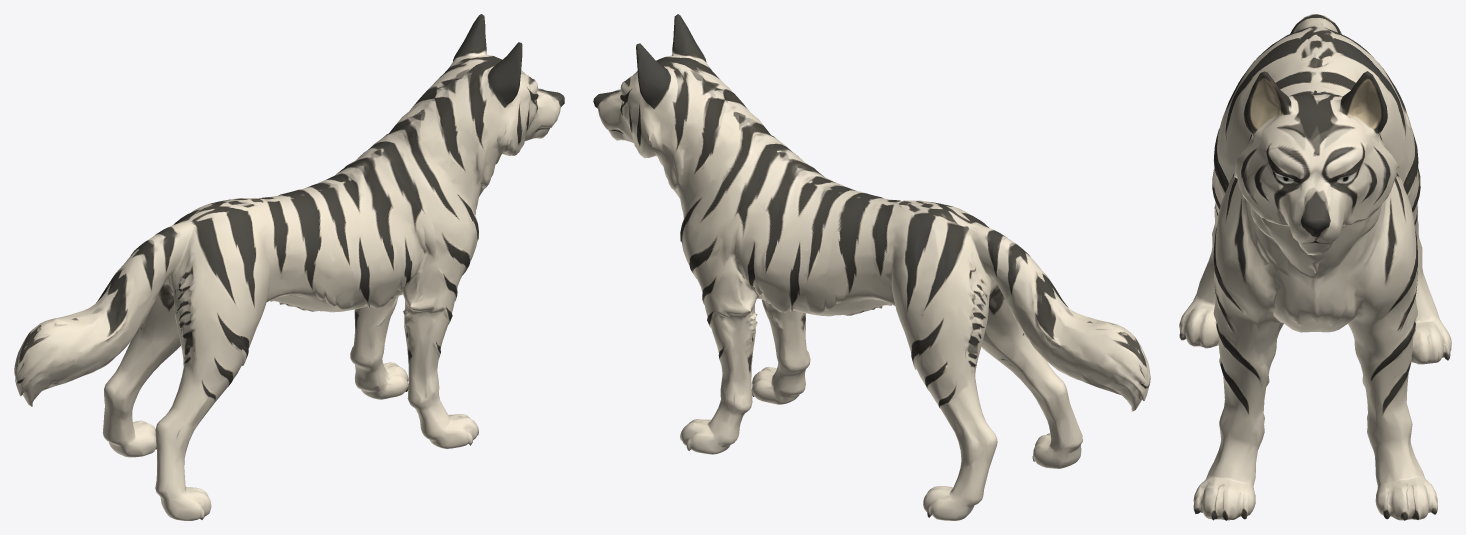
Rendered from striped_a.glb.
3 views of the same model, side by side, from view 1: azimuth 30°, elevation 25°; view 2: azimuth 150°, elevation 25°; view 3: azimuth 270°, elevation 25° (orthographic). The views are drawn at different scales.
Parts seen in each view (by area): view 1: tripo_node_315c6d21-a4b6-4874-9809-015742b427a9; view 2: tripo_node_315c6d21-a4b6-4874-9809-015742b427a9; view 3: tripo_node_315c6d21-a4b6-4874-9809-015742b427a9.
Part boxes in pixels (x1,y1,x2,y2): tripo_node_315c6d21-a4b6-4874-9809-015742b427a9: (14,14,564,520); tripo_node_315c6d21-a4b6-4874-9809-015742b427a9: (593,14,1150,520); tripo_node_315c6d21-a4b6-4874-9809-015742b427a9: (1179,14,1451,520).
Bounding box in the file's own units: 0.9965 × 0.6468 × 0.3207.
1 material, 1 textured.
